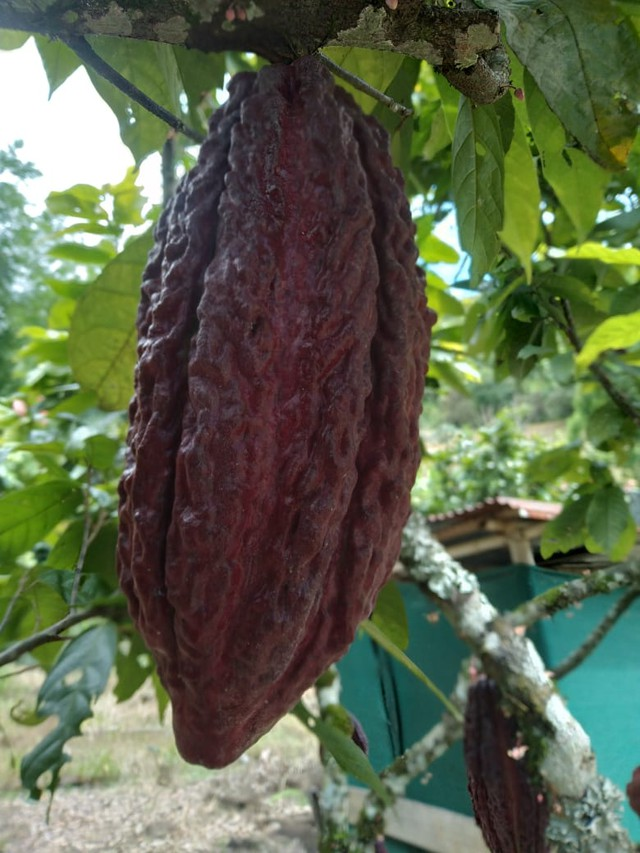Health: (111, 32, 450, 771)
